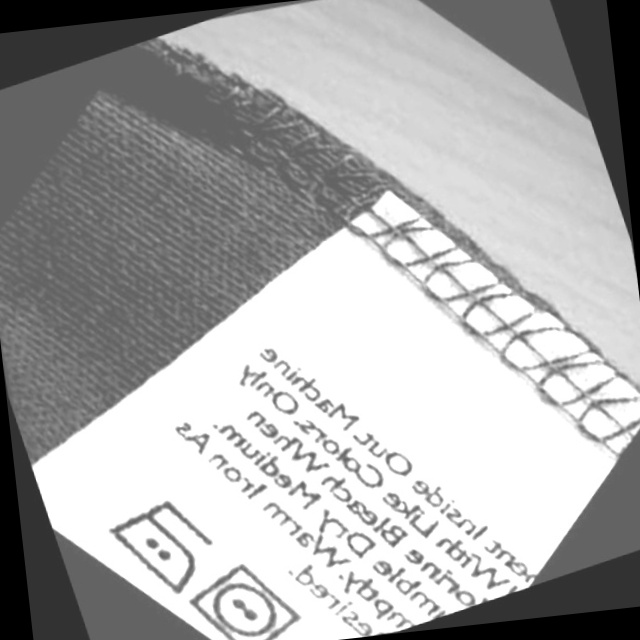iron_medium: (81, 473, 237, 622)
tumble_dry_medium: (164, 537, 318, 640)
